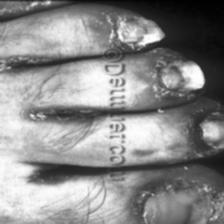Non-Cancerous Skin Condition: (138, 178, 224, 224), (185, 108, 224, 151), (109, 12, 161, 44), (28, 102, 102, 124), (0, 52, 51, 74)
